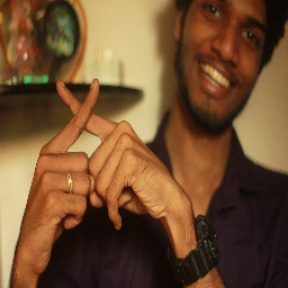X: (34, 69, 141, 173)
